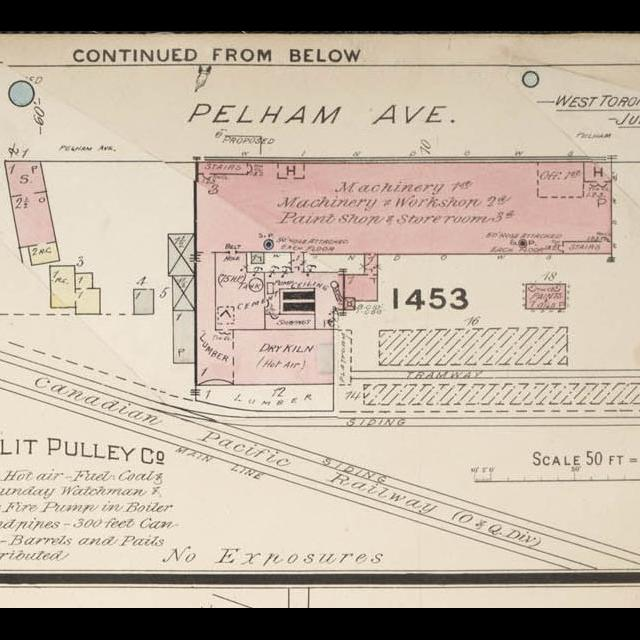building-footprints: (195, 162, 611, 386), (4, 162, 59, 265), (49, 266, 99, 315), (173, 311, 195, 364), (168, 234, 195, 276), (526, 285, 564, 310), (172, 276, 195, 311), (134, 290, 153, 315)
